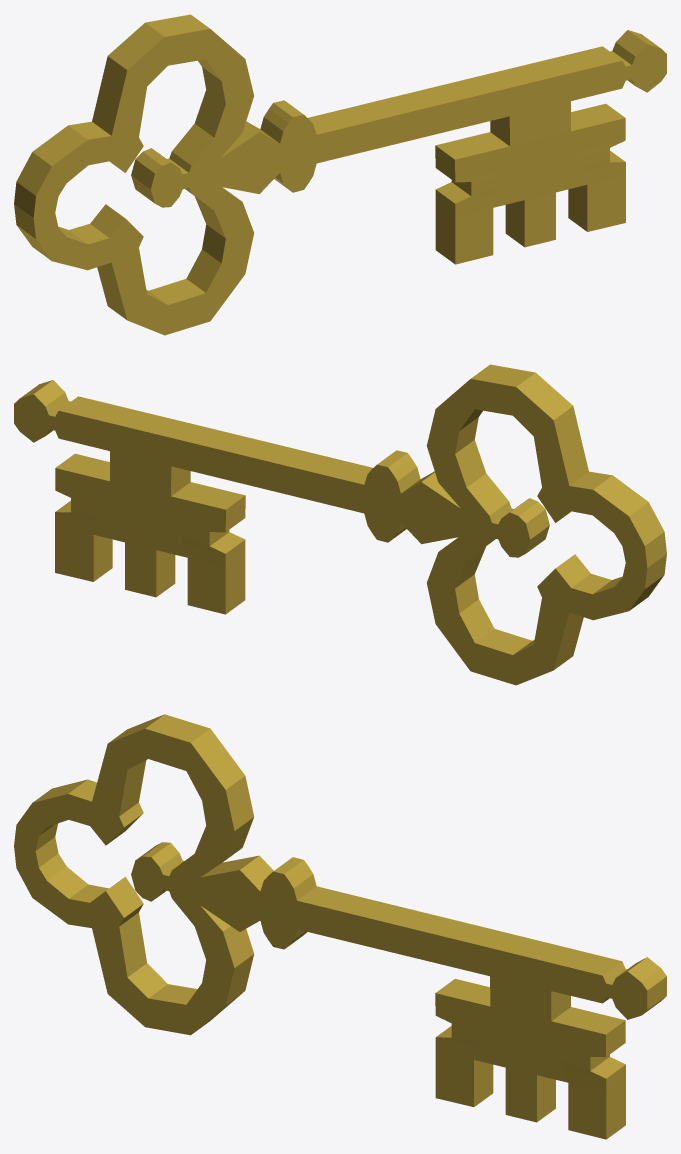
The model's file is Key.glb.
3 renders of one model, top to bottom at view 1: azimuth 30°, elevation 25°; view 2: azimuth 150°, elevation 25°; view 3: azimuth 330°, elevation 25°, orthographic.
Parts seen in each view (by area): view 1: Key; view 2: Key; view 3: Key.
Boxes of the visible parts, x1,y1,x2,y2 form: Key: (14, 14, 666, 335); Key: (14, 364, 666, 685); Key: (14, 714, 666, 1139).
Size of the model in its own units: 1.02 by 0.4608 by 0.055.
